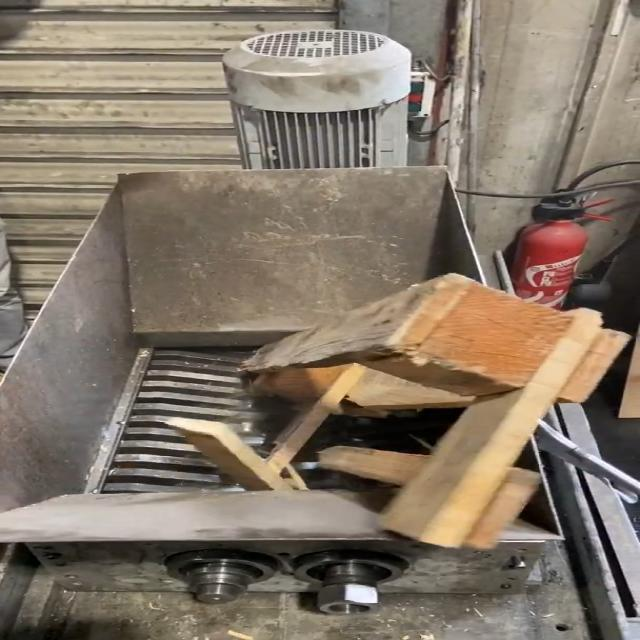Broyeur: (99, 330, 366, 498)
Palette: (234, 276, 625, 542)
